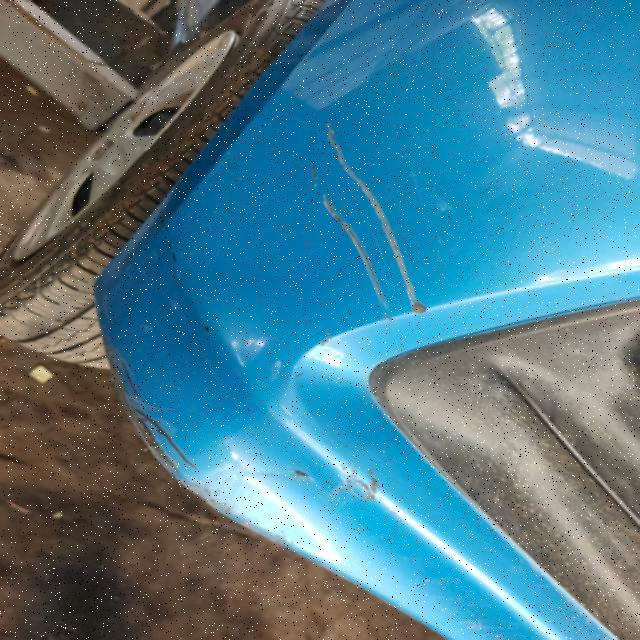hood: (74, 88, 638, 640)
